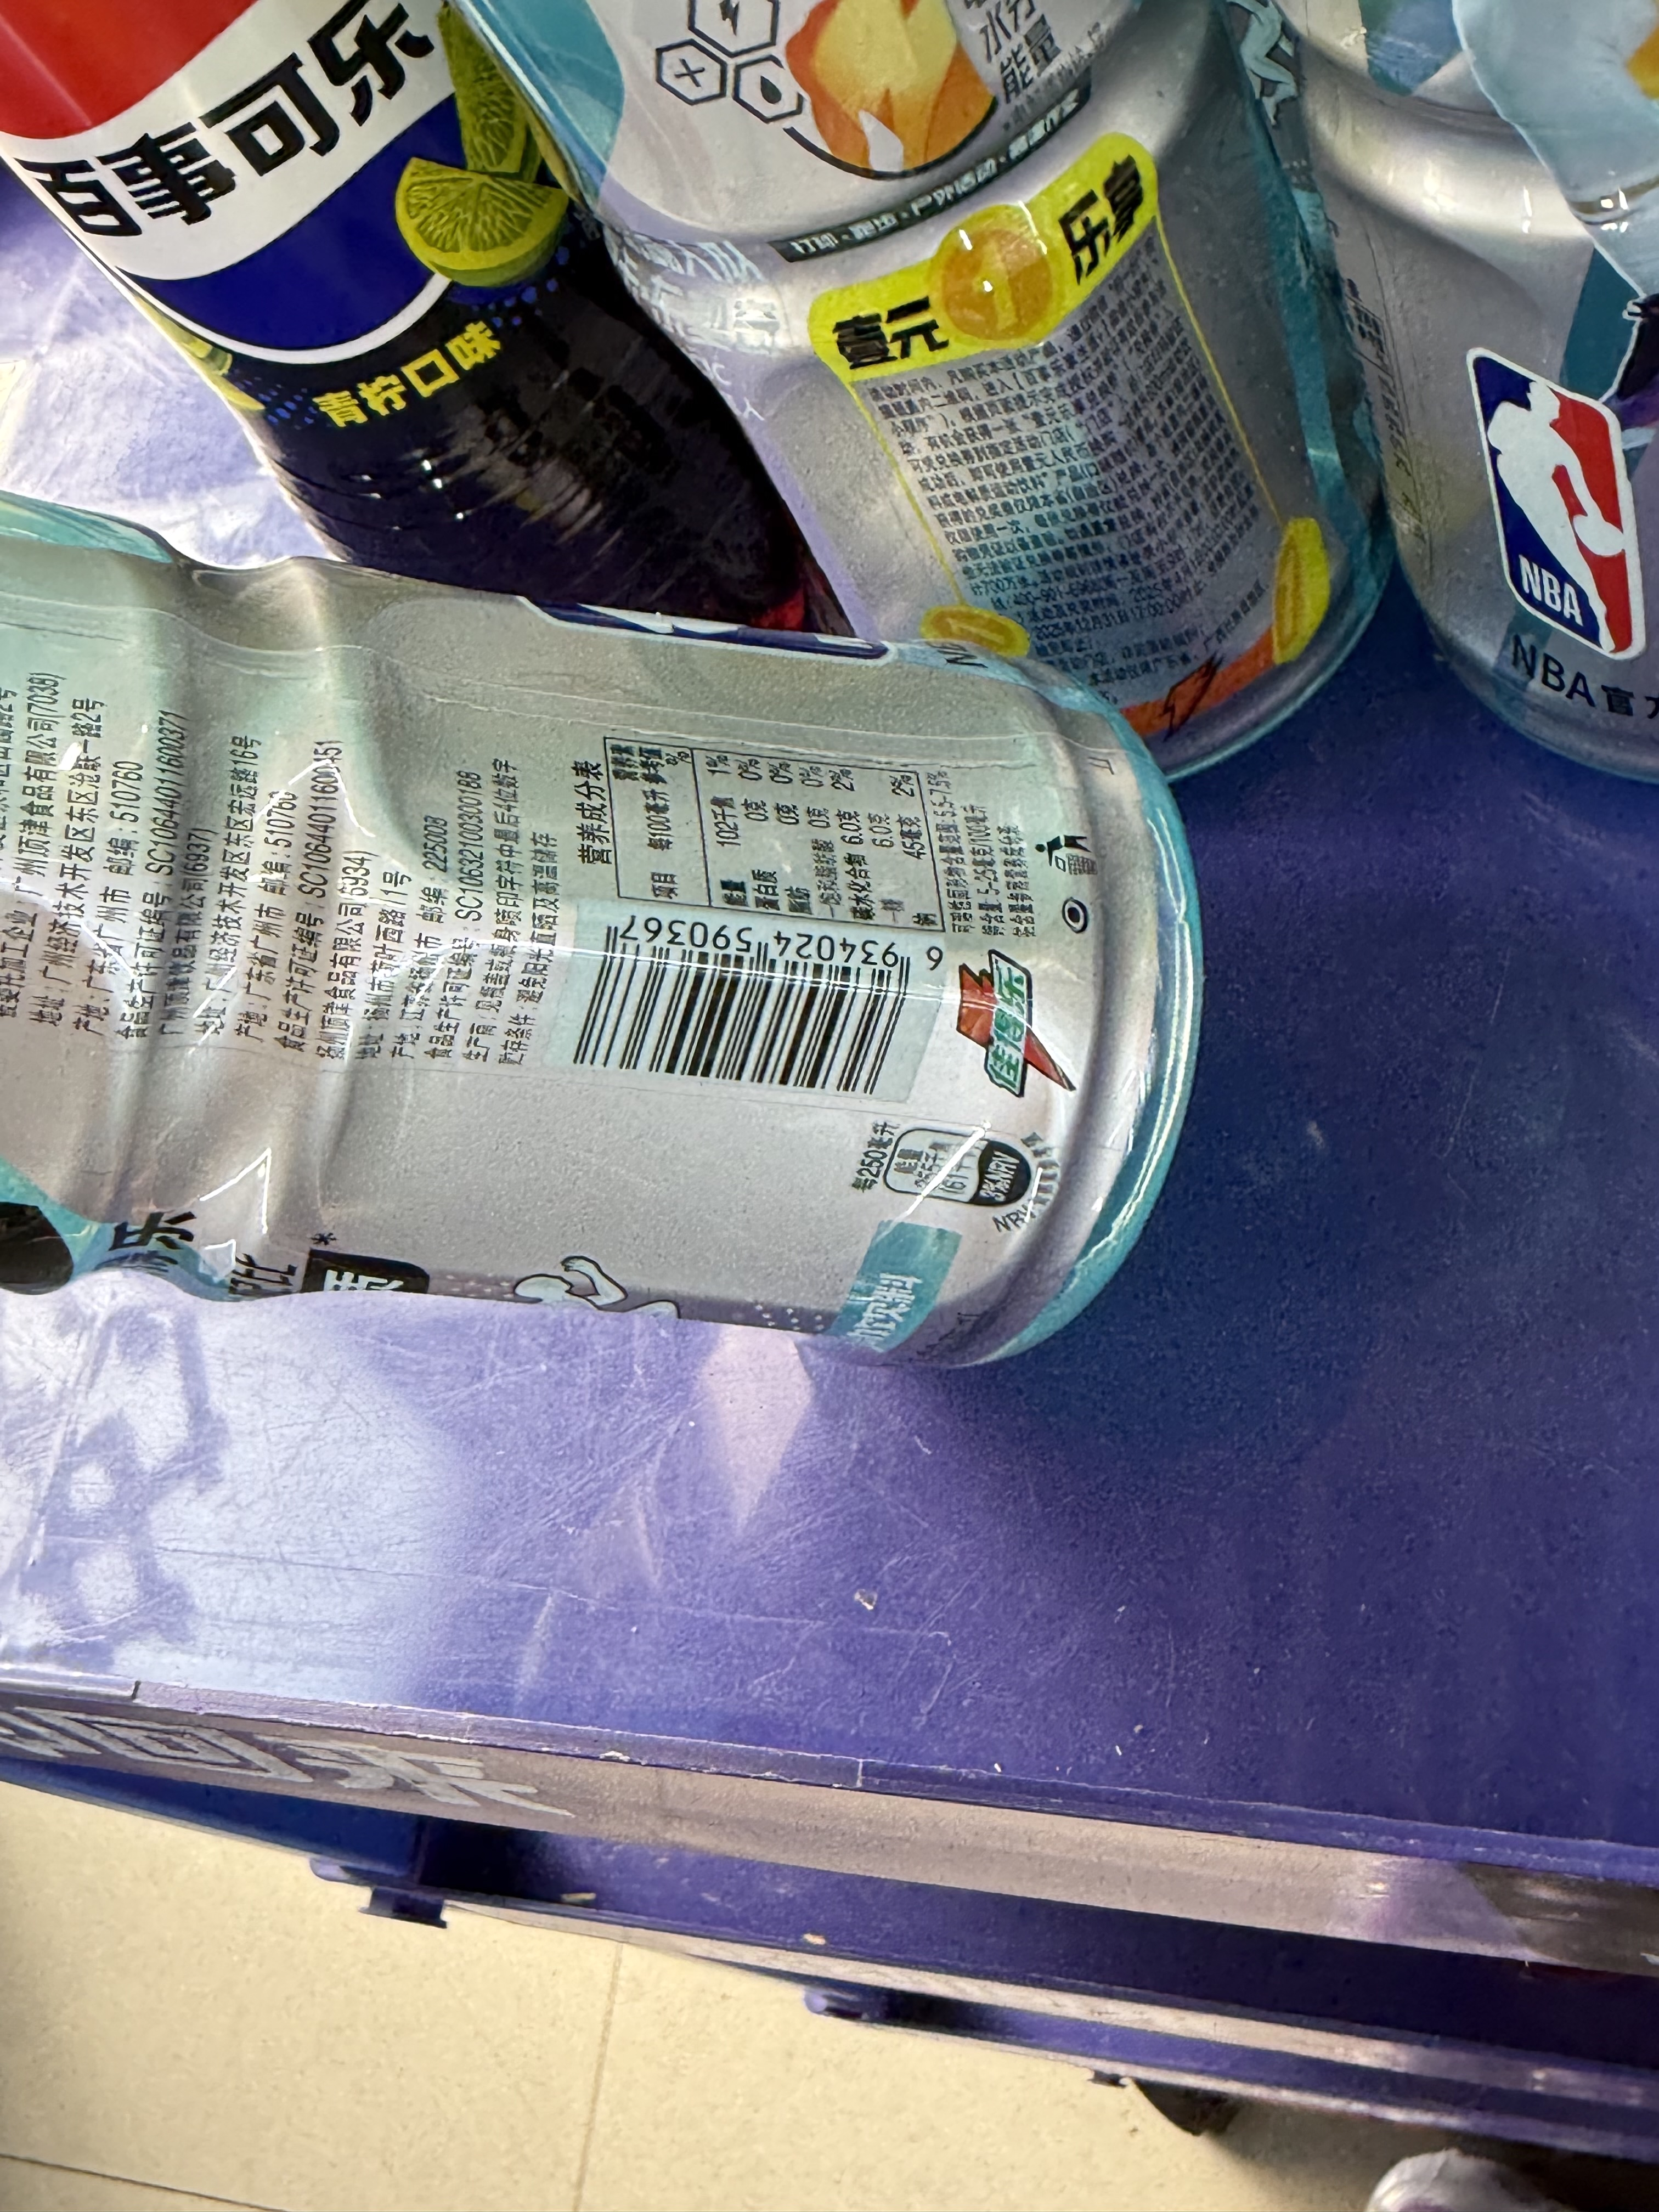bar: (565, 920, 915, 1109)
